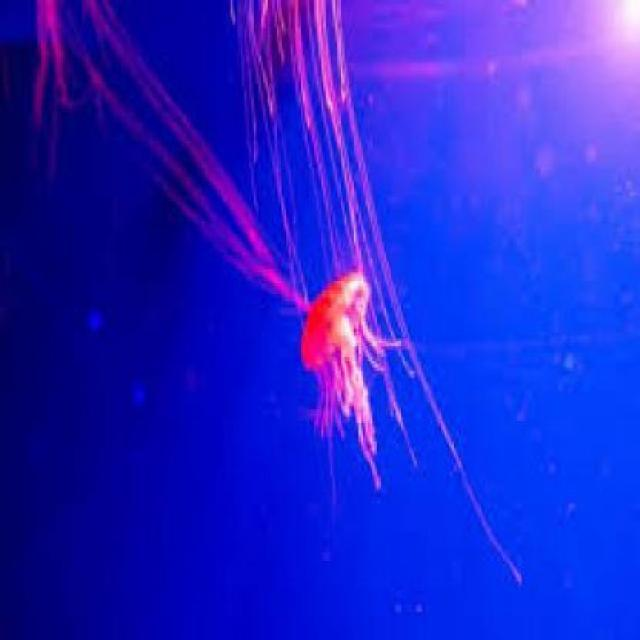Jellyfish: (295, 266, 414, 497)
